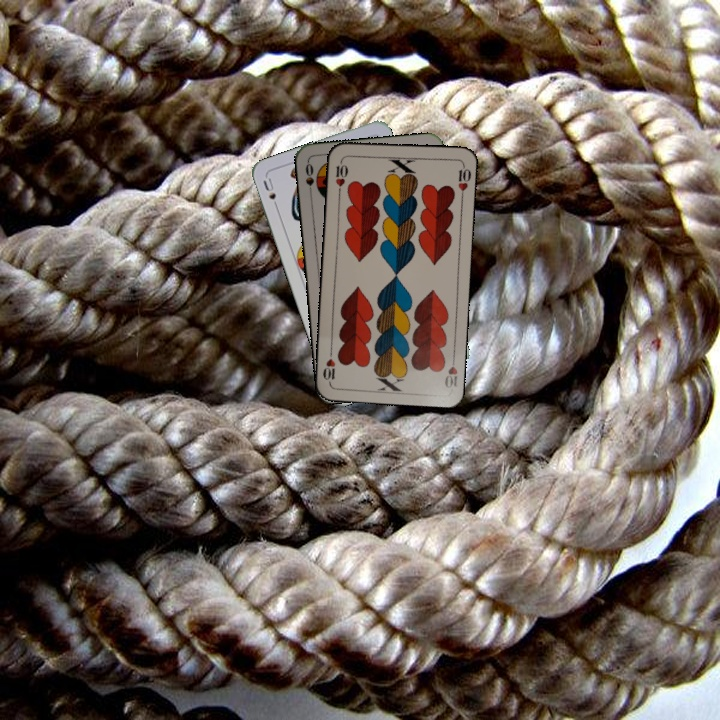H10: (440, 351, 460, 390), (332, 156, 350, 196)
SO: (301, 159, 316, 199)
SU: (259, 174, 281, 213)
